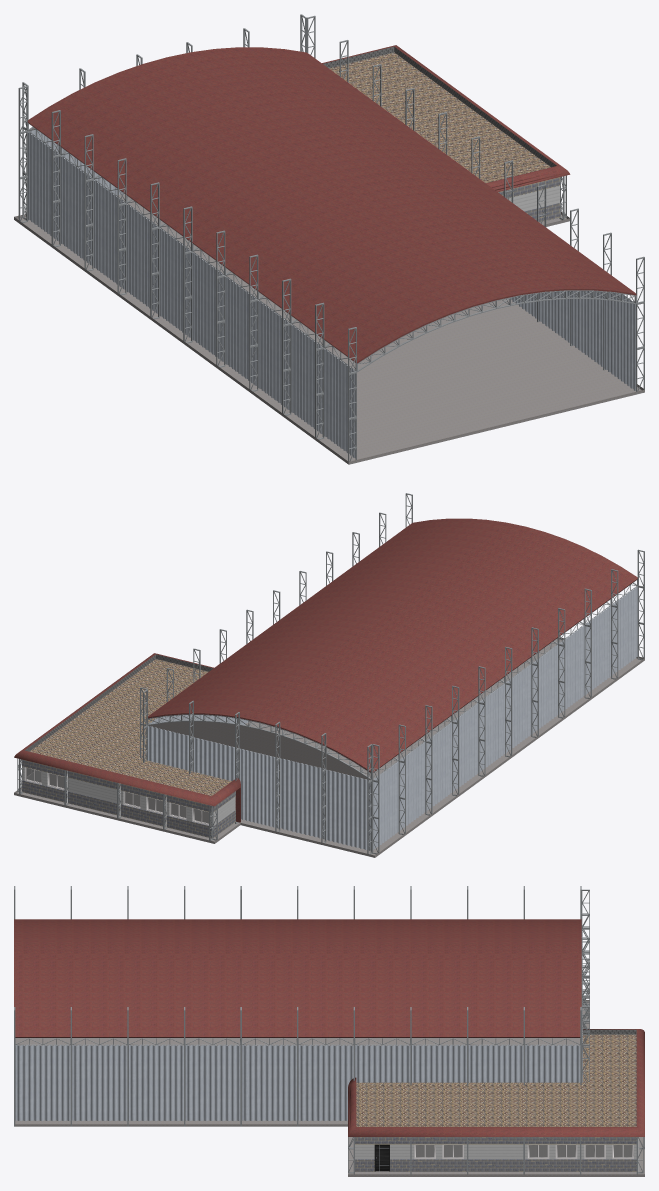
The model's file is hanger.glb.
The picture shows the model from 3 angles, top to bottom: view 1: azimuth 30°, elevation 25°; view 2: azimuth 150°, elevation 25°; view 3: azimuth 270°, elevation 25°; orthographic projection. The views are drawn at different scales.
Visible parts, largest first — view 1: _(Loose Entity), C-Toile.010, C-Toile.013, C-Toile.015, C-Toile.019, C-Toile, C-Toile.012, C-Toile.011, C-Toile.018, C-Toile.014, C-Toile.016, C-Toile.017 (+4 smaller); view 2: _(Loose Entity), C-CINTRE, C-Toile.024, C-Toile.023, C-Toile.022, C-Toile.014, C-Toile.011, C-Toile.018, C-Toile.016, C-Toile.013, C-Toile.010, C-Toile.012 (+11 smaller); view 3: _(Loose Entity), C-Toile.002, C-Toile.003, C-Toile.001, C-Toile, C-Toile.004, C-Toile.005, C-Toile.007, C-Toile.008, C-Toile.009, C-Toile.006, C-bloc simple.001 (+5 smaller).
Part boxes in pixels (x1,y1,x2,y2): _(Loose Entity): [14, 45, 644, 464]; C-Toile.010: [192, 252, 223, 361]; C-Toile.013: [93, 180, 125, 289]; C-Toile.015: [225, 276, 256, 385]; C-Toile.019: [60, 156, 92, 265]; C-Toile: [603, 292, 635, 390]; C-Toile.012: [126, 204, 157, 313]; C-Toile.011: [159, 228, 190, 337]; C-Toile.018: [324, 348, 355, 458]; C-Toile.014: [258, 300, 289, 409]; C-Toile.016: [28, 132, 59, 241]; C-Toile.017: [291, 324, 322, 433]; _(Loose Entity): [14, 518, 644, 857]; C-CINTRE: [148, 721, 370, 780]; C-Toile.024: [326, 769, 370, 850]; C-Toile.023: [280, 758, 324, 839]; C-Toile.022: [240, 748, 278, 828]; C-Toile.014: [559, 625, 584, 714]; C-Toile.011: [479, 683, 504, 772]; C-Toile.018: [612, 586, 637, 675]; C-Toile.016: [373, 761, 398, 850]; C-Toile.013: [426, 722, 451, 811]; C-Toile.010: [506, 664, 531, 753]; C-Toile.012: [453, 703, 478, 791]; _(Loose Entity): [14, 919, 644, 1176]; C-Toile.002: [128, 1045, 183, 1121]; C-Toile.003: [185, 1045, 240, 1121]; C-Toile.001: [72, 1045, 127, 1121]; C-Toile: [15, 1045, 70, 1121]; C-Toile.004: [242, 1045, 296, 1121]; C-Toile.005: [298, 1045, 353, 1121]; C-Toile.007: [411, 1045, 466, 1082]; C-Toile.008: [468, 1045, 523, 1082]; C-Toile.009: [525, 1045, 580, 1082]; C-Toile.006: [355, 1045, 410, 1082]; C-bloc simple.001: [468, 1137, 523, 1171].
Size of the model in its own units: 29.9 by 9.3 by 45.69.
14 materials, 10 textured.
